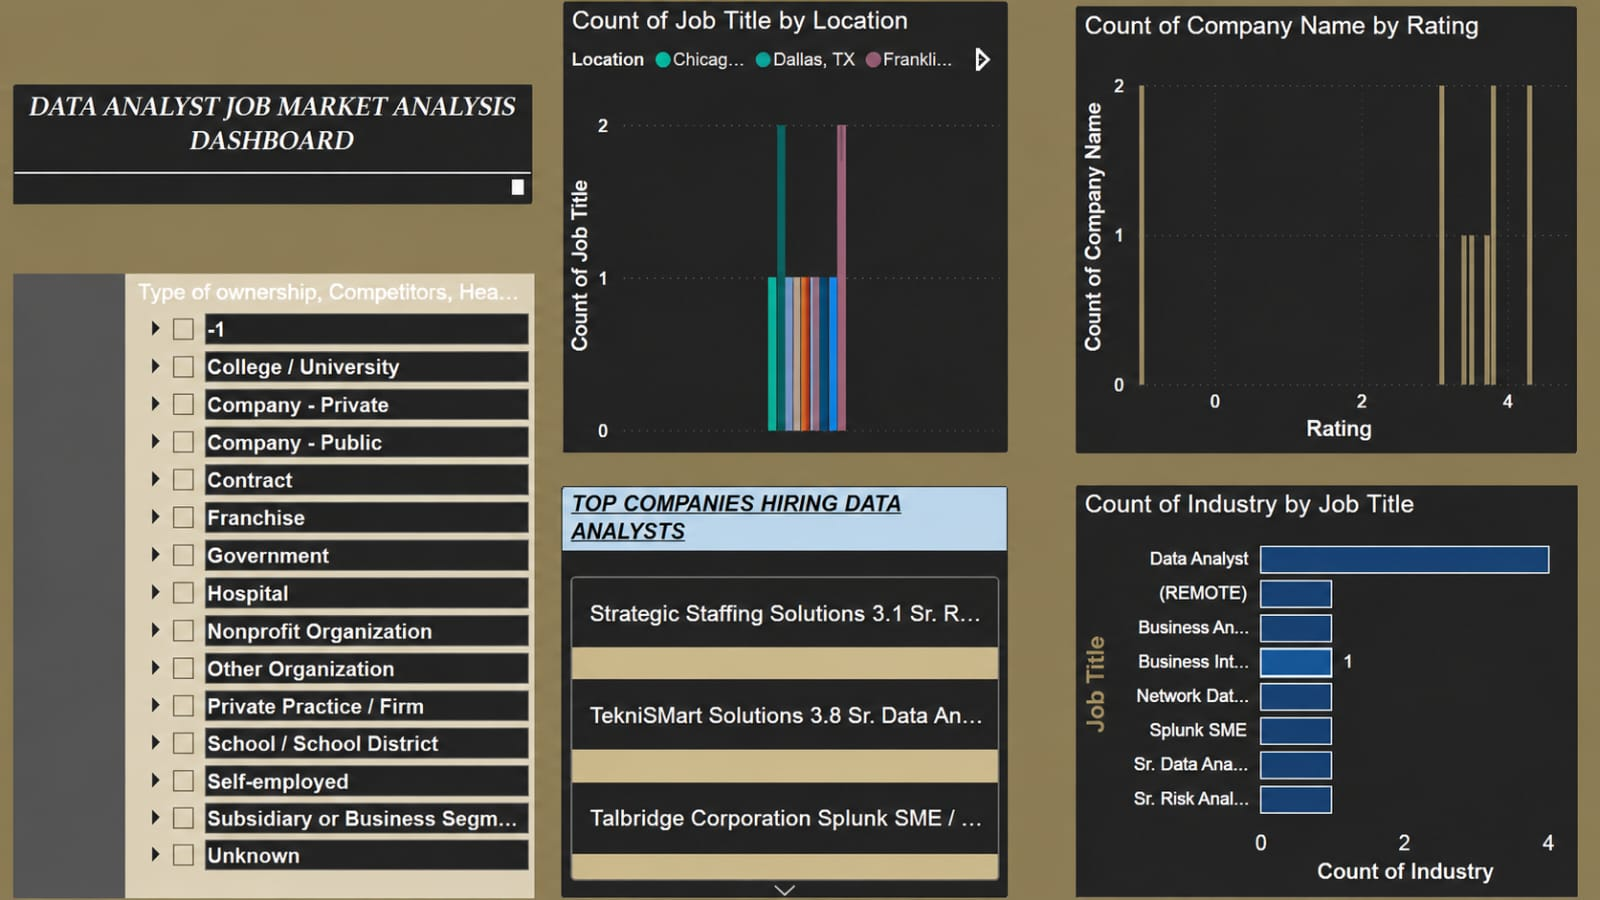

The page's visual inventory and layout, read from the dashboard file:
{"tool":"powerbi","page":{"name":"Page 1","canvas":[1280,720],"ordinal":0},"visuals":[{"type":"cardVisual","title":"TOP COMPANIES HIRING DATA ANALYSTS","fields":{"Rows":["Career_Camposs1.Company Name","Career_Camposs1.Company Name","Career_Camposs1.Job Title"]},"box":[456.9,383,330.9,337.6],"z":0},{"type":"columnChart","fields":{"Y":["CountNonNull(Career_Camposs1.Company Name)"],"Category":["Career_Camposs1.Rating"]},"box":[856.7,10,380,321.7],"z":1000},{"type":"clusteredBarChart","fields":{"Category":["Career_Camposs1.Job Title"],"Y":["CountNonNull(Career_Camposs1.Industry)"]},"box":[856.7,384.7,379.6,336],"z":2000},{"type":"clusteredColumnChart","fields":{"Series":["Career_Camposs1.Location"],"Y":["CountNonNull(Career_Camposs1.Job Title)"]},"box":[456.9,3.4,330.9,334.3],"z":3000},{"type":"FlowVisual_C29F1DCC_81F5_4973_94AD_0517D44CC06A","fields":{"table":["Sum(Career_Camposs1.Founded)","Career_Camposs1.Type of ownership","Career_Camposs1.Competitors"]},"box":[34,220,86,500],"z":4000},{"type":"slicer","fields":{"Values":["Career_Camposs1.Type of ownership","Career_Camposs1.Competitors","Career_Camposs1.Headquarters","Career_Camposs1.Founded"]},"box":[120,220,314,500],"z":5000},{"type":"textbox","title":"DATA ANALYST JOB MARKET ANALYSIS DASHBOARD","box":[34.3,81.4,400,77.1],"z":5001}]}

Visuals, with their boxes in screenshot pixels (x1, y1, x2, y2), scaled from the page's 1280x720 canvas onto the 1600x900 screenshot:
"TOP COMPANIES HIRING DATA ANALYSTS" cardVisual: region(571, 479, 985, 899)
columnChart - CountNonNull(Career_Camposs1.Company Name) x Career_Camposs1.Rating: region(1071, 12, 1546, 415)
clusteredBarChart - Career_Camposs1.Job Title x CountNonNull(Career_Camposs1.Industry): region(1071, 481, 1545, 899)
clusteredColumnChart - Career_Camposs1.Location x CountNonNull(Career_Camposs1.Job Title): region(571, 4, 985, 422)
FlowVisual_C29F1DCC_81F5_4973_94AD_0517D44CC06A - Sum(Career_Camposs1.Founded) x Career_Camposs1.Type of ownership: region(42, 275, 150, 899)
slicer - Career_Camposs1.Type of ownership x Career_Camposs1.Competitors: region(150, 275, 542, 899)
"DATA ANALYST JOB MARKET ANALYSIS DASHBOARD" textbox: region(43, 102, 543, 198)
